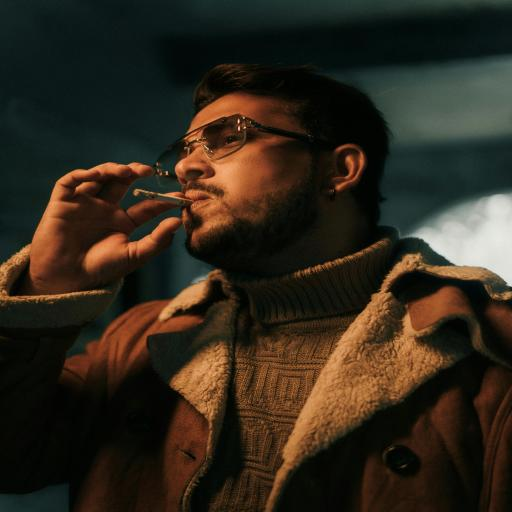terdeteksi merokok: (115, 110, 249, 255)
